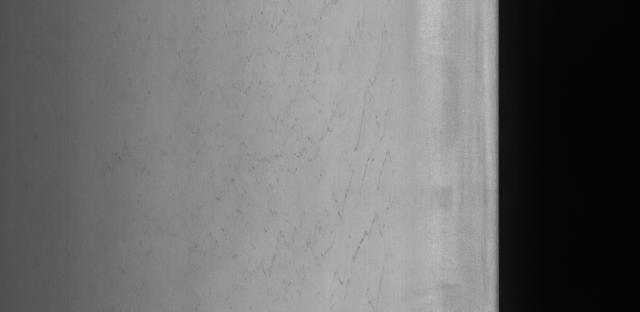silk_spot: (195, 40, 405, 298)
